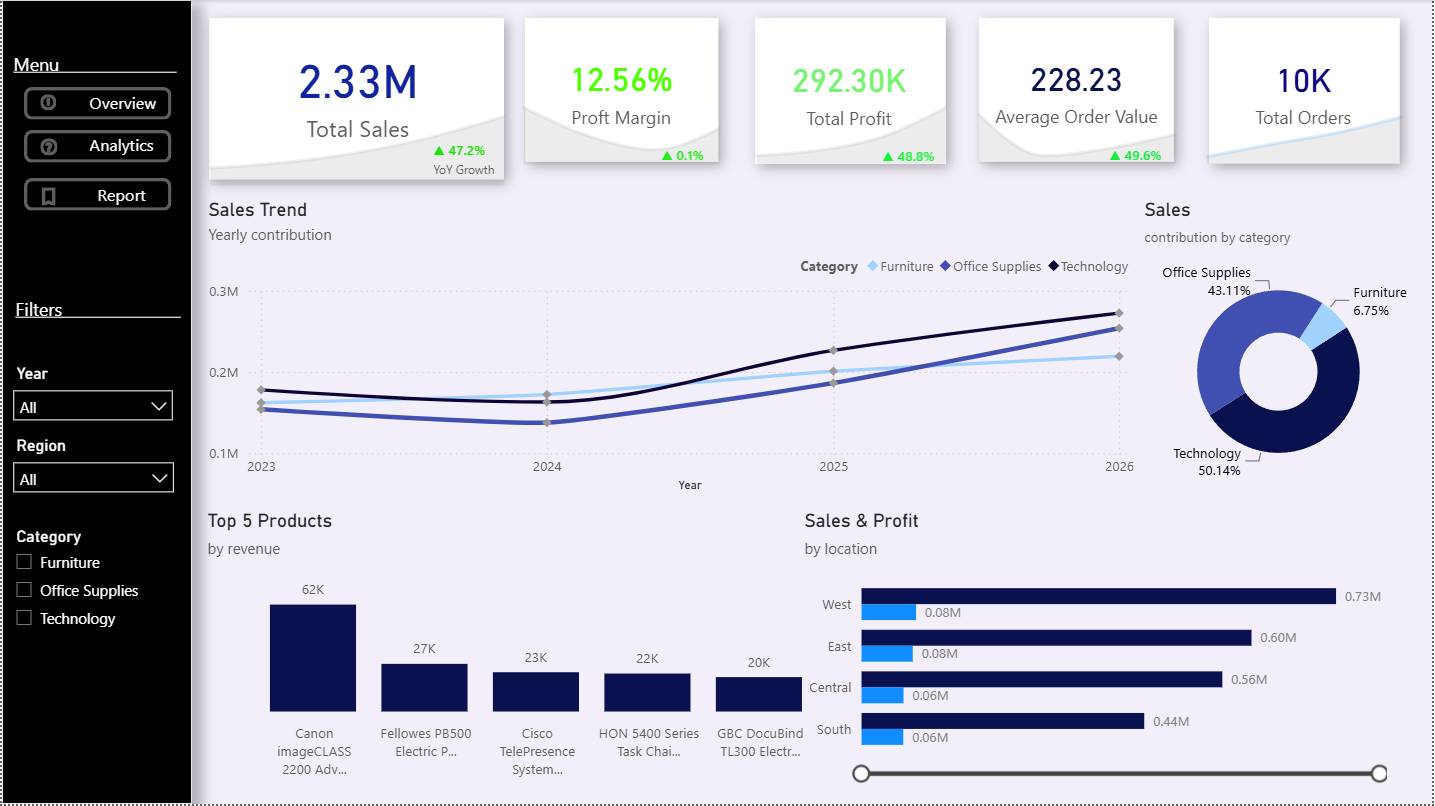

The page's visual inventory and layout, read from the dashboard file:
{"tool":"powerbi","page":{"name":"Overview","canvas":[1280,720],"ordinal":0},"visuals":[{"type":"shape","box":[657.9,0,203,162.6],"z":0},{"type":"shape","box":[859,0,206.7,161.1],"z":1000},{"type":"shape","box":[1065.1,0,203,162.6],"z":2000},{"type":"shape","box":[451.8,0,205.3,161.1],"z":3000},{"type":"shape","box":[169.6,0,296.5,176.7],"z":4000},{"type":"shape","box":[0,0,170.2,720.4],"z":5000},{"type":"card","fields":{"Values":["customers_202604191953.Total Sales"]},"box":[233.6,19.6,170,124.7],"z":6000},{"type":"card","fields":{"Values":["customers_202604191953.Total Profit"]},"box":[693.3,30.6,130.8,101.5],"z":7000},{"type":"card","fields":{"Values":["customers_202604191953.Total Orders"]},"box":[1104.2,39.1,122.3,83.2],"z":8000},{"type":"card","fields":{"Values":["customers_202604191953.Proft Margin"]},"box":[489.1,23.2,130.8,113.7],"z":9000},{"type":"card","fields":{"Values":["customers_202604191953.Average Order Value"]},"box":[871.9,28.1,179.8,103.9],"z":10000},{"type":"clusteredBarChart","title":"Sales & Profit","fields":{"Category":["customers_202604191953.region"],"Y":["customers_202604191953.Total Sales","customers_202604191953.Total Profit"]},"box":[713.6,455.6,526.9,248.4],"z":11000},{"type":"slicer","fields":{"Values":["orders_202604191948.order_date.Variation.Date Hierarchy.Year"]},"box":[0,321.1,163.3,81],"z":12000},{"type":"lineChart","fields":{"Y":["Sum(orders_202604191948.sales)"],"Category":["orders_202604191948.order_date.Variation.Date Hierarchy.Quarter"]},"box":[146.8,81,343.1,90.6],"z":13000},{"type":"lineChart","fields":{"Y":["customers_202604191953.Profit Margin"],"Category":["orders_202604191948.order_date.Variation.Date Hierarchy.Quarter"]},"box":[439,79.8,232.3,72.7],"z":14000},{"type":"lineChart","fields":{"Y":["customers_202604191953.Total Profit"],"Category":["orders_202604191948.order_date.Variation.Date Hierarchy.Quarter"]},"box":[648.1,78.3,223.8,73.4],"z":15000},{"type":"lineChart","fields":{"Y":["customers_202604191953.Average Order Value"],"Category":["orders_202604191948.order_date.Variation.Date Hierarchy.Quarter"]},"box":[846.7,87.8,233.3,64.5],"z":16000},{"type":"donutChart","title":"Sales","fields":{"Y":["customers_202604191953.Total Profit"],"Category":["products_202604191955.Category"]},"box":[1018.2,177,249.7,269],"z":17000},{"type":"columnChart","title":"Top 5 Products","fields":{"Category":["products_202604191955.Short Name"],"Y":["customers_202604191953.Total Sales"]},"box":[179.8,455.6,579.1,248.4],"z":18000},{"type":"textbox","box":[5.5,41.2,156.4,37],"z":19000},{"type":"textbox","box":[73.4,77,145.5,36.7],"z":20000},{"type":"textbox","box":[73.4,114.9,145.5,37.9],"z":21000},{"type":"textbox","box":[80.7,159,145.5,36.7],"z":22000},{"type":"textbox","box":[6.9,260.7,157.8,37],"z":23000},{"type":"lineChart","title":"Sales Trend","fields":{"Y":["Sum(orders_202604191948.sales)"],"Category":["orders_202604191948.order_date.Variation.Date Hierarchy.Year"],"Series":["products_202604191955.Category"]},"box":[179.8,177,838.4,267.6],"z":24000},{"type":"actionButton","box":[19.6,78.3,132.1,29.3],"z":25000},{"type":"actionButton","box":[19.6,116.2,132.1,29.3],"z":26000},{"type":"actionButton","box":[19.6,159,132.1,29.3],"z":27000},{"type":"actionButton","box":[30.6,80.7,58.7,22],"z":28000},{"type":"actionButton","box":[29.3,163.9,61.1,24.5],"z":29000},{"type":"actionButton","box":[30.6,119.8,61.1,23.2],"z":30000},{"type":"cardVisual","fields":{"Data":["Date.YoY Display"]},"box":[357.1,85.6,130.8,113.7],"z":31000},{"type":"cardVisual","fields":{"Data":["Date.Margin Display"]},"box":[561.3,83.2,117.4,107.6],"z":32000},{"type":"slicer","fields":{"Values":["products_202604191955.Category"]},"box":[0,467.1,159,132.1],"z":33000},{"type":"lineChart","fields":{"Category":["orders_202604191948.order_date.Variation.Date Hierarchy.Quarter"],"Y":["CountNonNull(orders_202604191948.order_id)"]},"box":[1051.1,87.8,229.2,64.5],"z":34000},{"type":"cardVisual","fields":{"Data":["orders_202604191948.Profit YoY Display"]},"box":[759.4,101.5,126,74.6],"z":35000},{"type":"cardVisual","fields":{"Data":["orders_202604191948.Orders YoY Display"]},"box":[962.4,106.4,123.5,61.1],"z":36000},{"type":"slicer","fields":{"Values":["customers_202604191953.region"]},"box":[0,386.4,163.9,59.9],"z":37000}]}

Visuals, with their boxes on the page's 1280x720 design canvas (x1, y1, x2, y2). These are canvas units, not pixel positions in the 1435x806 screenshot, which may show the page scaled, cropped or inside an application window:
shape: BBox(658, 0, 861, 163)
shape: BBox(859, 0, 1066, 161)
shape: BBox(1065, 0, 1268, 163)
shape: BBox(452, 0, 657, 161)
shape: BBox(170, 0, 466, 177)
shape: BBox(0, 0, 170, 720)
card - customers_202604191953.Total Sales: BBox(234, 20, 404, 144)
card - customers_202604191953.Total Profit: BBox(693, 31, 824, 132)
card - customers_202604191953.Total Orders: BBox(1104, 39, 1226, 122)
card - customers_202604191953.Proft Margin: BBox(489, 23, 620, 137)
card - customers_202604191953.Average Order Value: BBox(872, 28, 1052, 132)
"Sales & Profit" clusteredBarChart: BBox(714, 456, 1240, 704)
slicer - orders_202604191948.order_date.Variation.Date Hierarchy.Year: BBox(0, 321, 163, 402)
lineChart - Sum(orders_202604191948.sales) x orders_202604191948.order_date.Variation.Date Hierarchy.Quarter: BBox(147, 81, 490, 172)
lineChart - customers_202604191953.Profit Margin x orders_202604191948.order_date.Variation.Date Hierarchy.Quarter: BBox(439, 80, 671, 152)
lineChart - customers_202604191953.Total Profit x orders_202604191948.order_date.Variation.Date Hierarchy.Quarter: BBox(648, 78, 872, 152)
lineChart - customers_202604191953.Average Order Value x orders_202604191948.order_date.Variation.Date Hierarchy.Quarter: BBox(847, 88, 1080, 152)
"Sales" donutChart: BBox(1018, 177, 1268, 446)
"Top 5 Products" columnChart: BBox(180, 456, 759, 704)
textbox: BBox(6, 41, 162, 78)
textbox: BBox(73, 77, 219, 114)
textbox: BBox(73, 115, 219, 153)
textbox: BBox(81, 159, 226, 196)
textbox: BBox(7, 261, 165, 298)
"Sales Trend" lineChart: BBox(180, 177, 1018, 445)
actionButton: BBox(20, 78, 152, 108)
actionButton: BBox(20, 116, 152, 146)
actionButton: BBox(20, 159, 152, 188)
actionButton: BBox(31, 81, 89, 103)
actionButton: BBox(29, 164, 90, 188)
actionButton: BBox(31, 120, 92, 143)
cardVisual - Date.YoY Display: BBox(357, 86, 488, 199)
cardVisual - Date.Margin Display: BBox(561, 83, 679, 191)
slicer - products_202604191955.Category: BBox(0, 467, 159, 599)
lineChart - orders_202604191948.order_date.Variation.Date Hierarchy.Quarter x CountNonNull(orders_202604191948.order_id): BBox(1051, 88, 1280, 152)
cardVisual - orders_202604191948.Profit YoY Display: BBox(759, 102, 885, 176)
cardVisual - orders_202604191948.Orders YoY Display: BBox(962, 106, 1086, 168)
slicer - customers_202604191953.region: BBox(0, 386, 164, 446)
